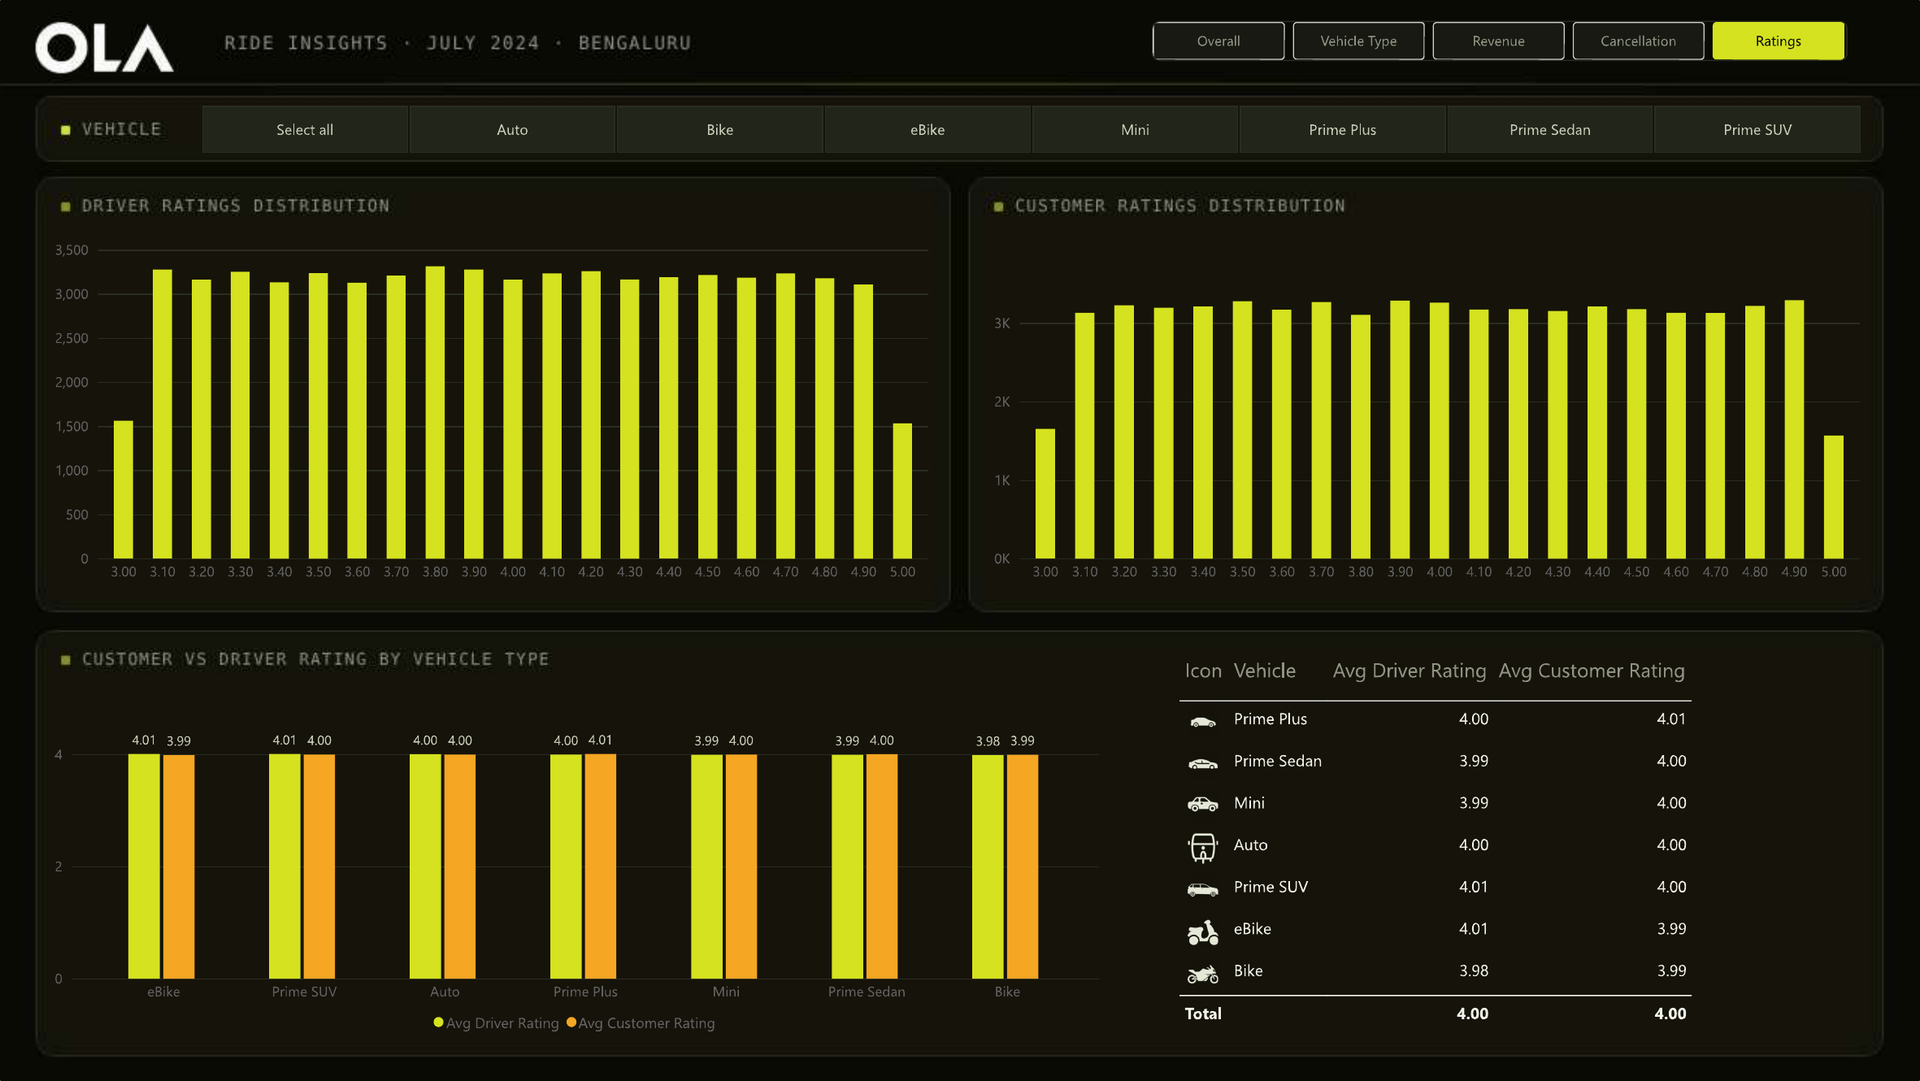

The dashboard page shown, as its layout file describes it:
{"tool":"powerbi","page":{"name":"Ratings","canvas":[1920,1080],"ordinal":4},"visuals":[{"type":"clusteredColumnChart","fields":{"Category":["ola_db bookings.Driver_Ratings"],"Y":["_Measures.Total Rides"]},"box":[38,224,906,378],"z":0},{"type":"clusteredColumnChart","fields":{"Category":["ola_db bookings.Customer_Rating"],"Y":["_Measures.Total Rides"]},"box":[978,260,898,342],"z":1000},{"type":"clusteredColumnChart","fields":{"Category":["ola_db bookings.Vehicle_Type"],"Y":["_Measures.Avg Driver Rating","_Measures.Avg Customer Rating"]},"box":[37.5,675,1077.5,377.5],"z":2000},{"type":"tableEx","fields":{"Values":["Vehicle Icons.Icon","Vehicle Icons.Vehicle_Type","_Measures.Avg Driver Rating","_Measures.Avg Customer Rating"]},"box":[1162.5,635,647.5,417.5],"z":3000},{"type":"slicer","fields":{"Values":["ola_db bookings.Vehicle_Type"]},"box":[181.2,102.5,1698.8,51.2],"z":4000},{"type":"pageNavigator","box":[1152,20,696,40],"z":5000}]}

Visuals, with their boxes in screenshot pixels (x1, y1, x2, y2), scaled from the page's 1920x1080 canvas onto the 1920x1081 screenshot:
clusteredColumnChart - ola_db bookings.Driver_Ratings x _Measures.Total Rides: <region>38, 224, 944, 603</region>
clusteredColumnChart - ola_db bookings.Customer_Rating x _Measures.Total Rides: <region>978, 260, 1876, 603</region>
clusteredColumnChart - ola_db bookings.Vehicle_Type x _Measures.Avg Driver Rating: <region>38, 676, 1115, 1053</region>
tableEx - Vehicle Icons.Icon x Vehicle Icons.Vehicle_Type: <region>1162, 636, 1810, 1053</region>
slicer - ola_db bookings.Vehicle_Type: <region>181, 103, 1880, 154</region>
pageNavigator: <region>1152, 20, 1848, 60</region>
